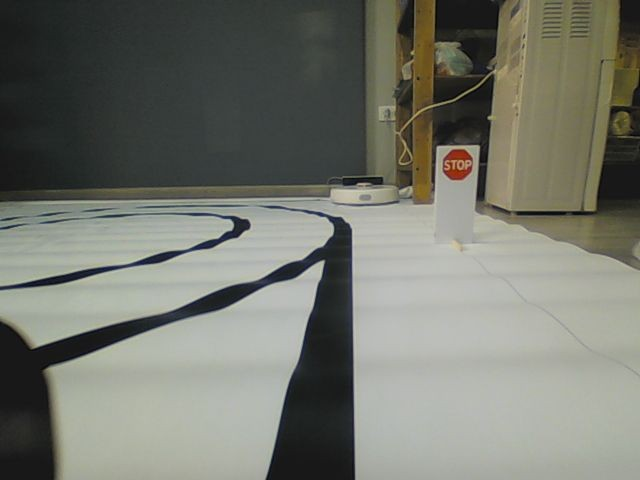Stop: (443, 146, 475, 182)
